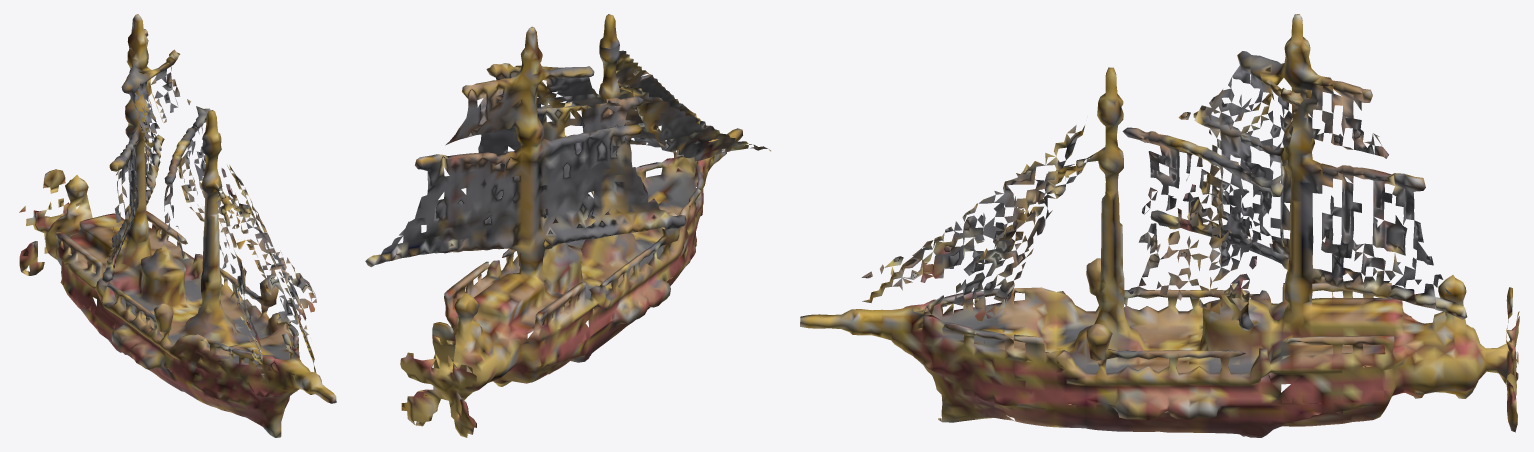
Rendered from mon3d_lo.glb.
The picture shows the model from 3 angles, left to right: view 1: azimuth 30°, elevation 25°; view 2: azimuth 150°, elevation 25°; view 3: azimuth 270°, elevation 25°; orthographic projection. The views are drawn at different scales.
Size of the model in its own units: 0.7188 by 1.24 by 1.94.
